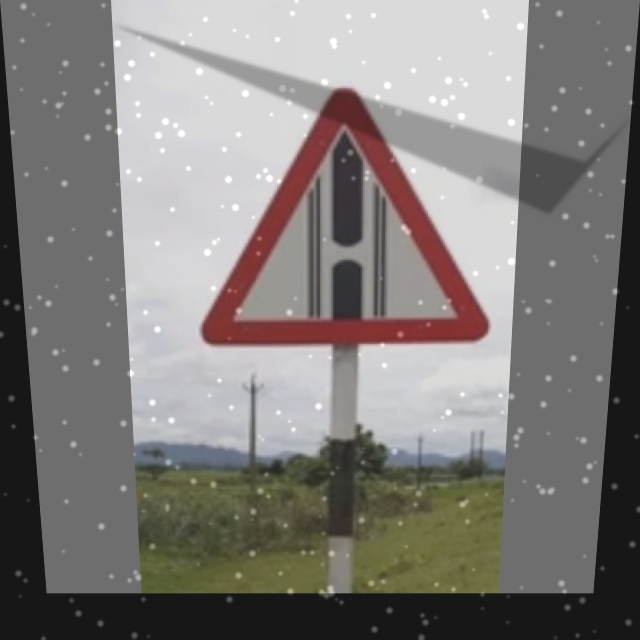Gap_in_Median: (194, 69, 498, 344)
